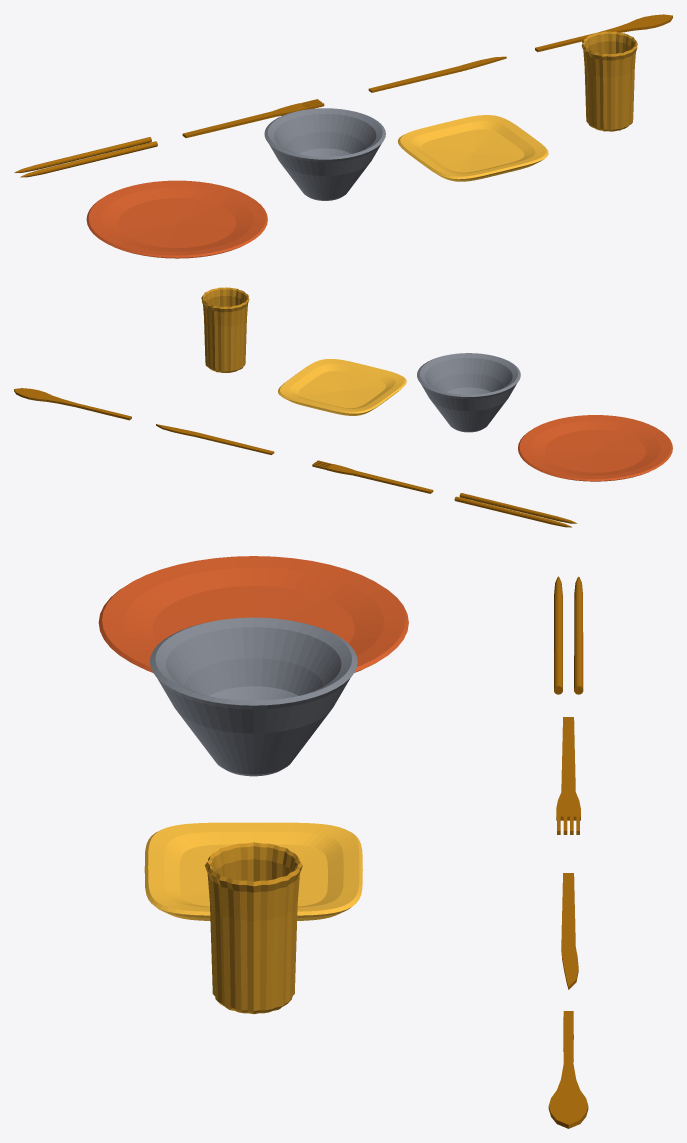
The model's file is dinnerware.obj.
The picture shows the model from 3 angles, top to bottom: view 1: azimuth 30°, elevation 25°; view 2: azimuth 150°, elevation 25°; view 3: azimuth 270°, elevation 25°; orthographic projection. The views are drawn at different scales.
Visible parts, largest first — view 1: plate, bowl, square, cup, cutlery; view 2: plate, bowl, square, cup, cutlery; view 3: bowl, plate, cup, square, cutlery.
Part boxes in pixels (bbox=[...]): plate: bbox=[86, 180, 267, 258]; bowl: bbox=[264, 108, 385, 200]; square: bbox=[398, 115, 548, 181]; cup: bbox=[581, 31, 637, 131]; cutlery: bbox=[14, 14, 672, 177]; plate: bbox=[518, 415, 672, 481]; bowl: bbox=[417, 353, 520, 432]; square: bbox=[278, 359, 406, 415]; cup: bbox=[201, 287, 249, 372]; cutlery: bbox=[14, 388, 576, 527]; bowl: bbox=[150, 617, 357, 776]; plate: bbox=[98, 556, 408, 672]; cup: bbox=[204, 842, 302, 1014]; square: bbox=[144, 822, 362, 920]; cutlery: bbox=[548, 576, 588, 1128].
Bounding box in the file's own units: 117 × 13.5 × 43.56.
